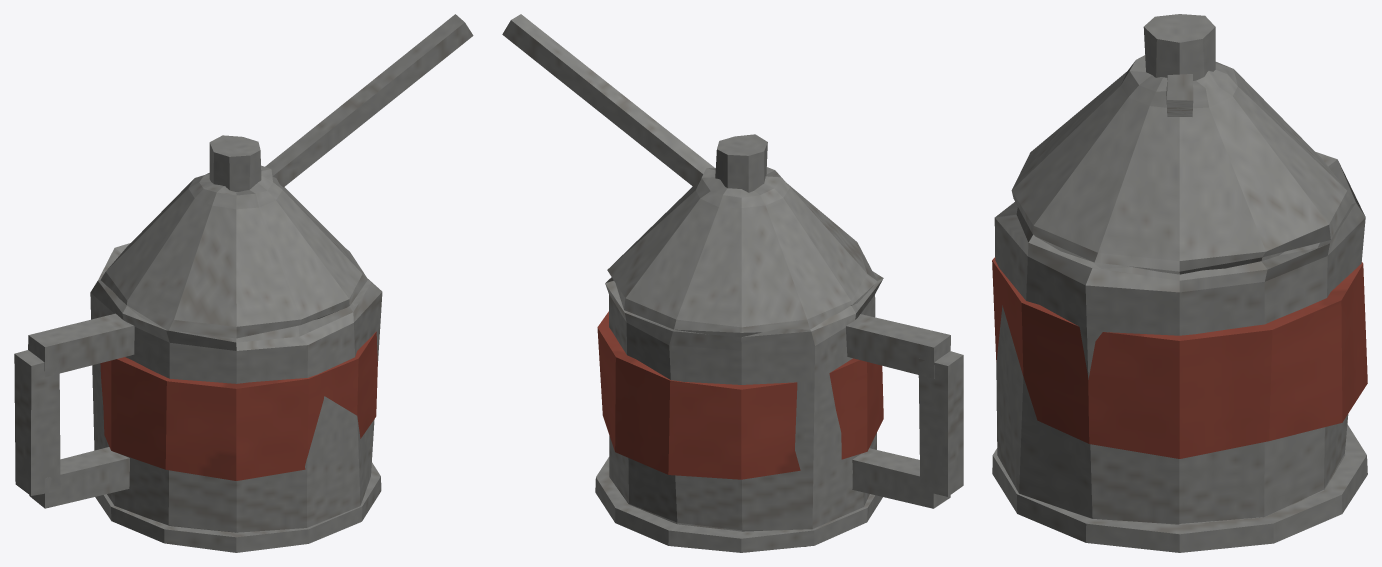
File: sorter_boost_oil.glb
3 views of the same model, side by side, from view 1: azimuth 30°, elevation 25°; view 2: azimuth 150°, elevation 25°; view 3: azimuth 270°, elevation 25° (orthographic). The views are drawn at different scales.
Visible parts, largest first — view 1: SorterBoostOil; view 2: SorterBoostOil; view 3: SorterBoostOil.
Boxes of the visible parts, x1,y1,x2,y2 form: SorterBoostOil: [14, 14, 473, 552]; SorterBoostOil: [502, 14, 963, 552]; SorterBoostOil: [992, 14, 1367, 552].
Size of the model in its own units: 0.4386 by 0.4004 by 0.2469.
Materials: 2 (2 with a texture image).
